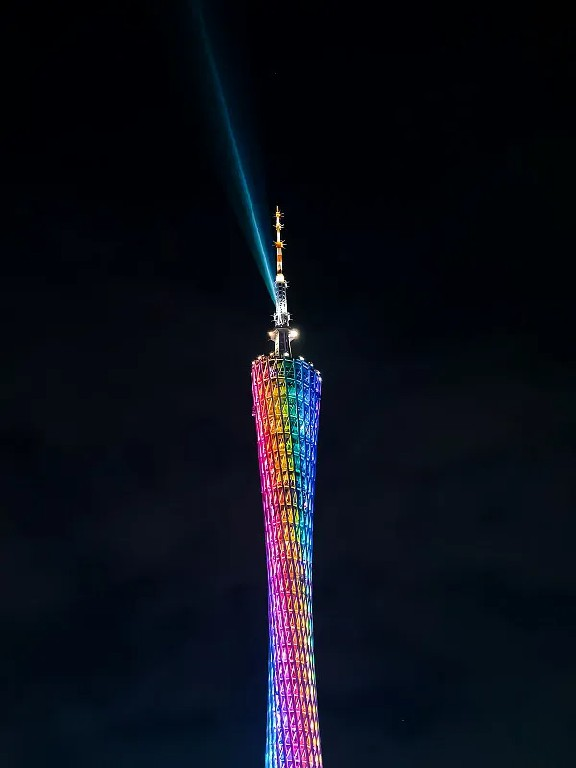Canton: (240, 197, 331, 768)
